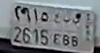1: (32, 7, 39, 46)
2: (13, 5, 22, 43)
5: (40, 11, 49, 45)
6: (22, 6, 31, 45)
B: (62, 15, 71, 47), (72, 17, 80, 49)
E: (53, 12, 62, 46)
